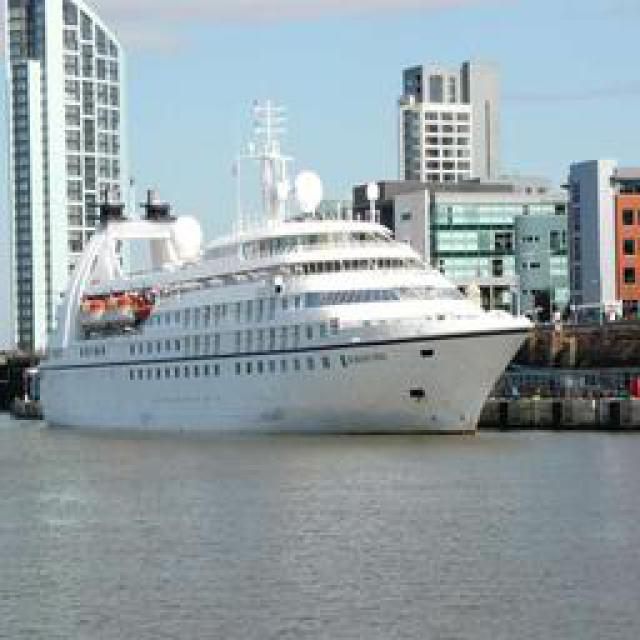Ship: (33, 90, 534, 441)
